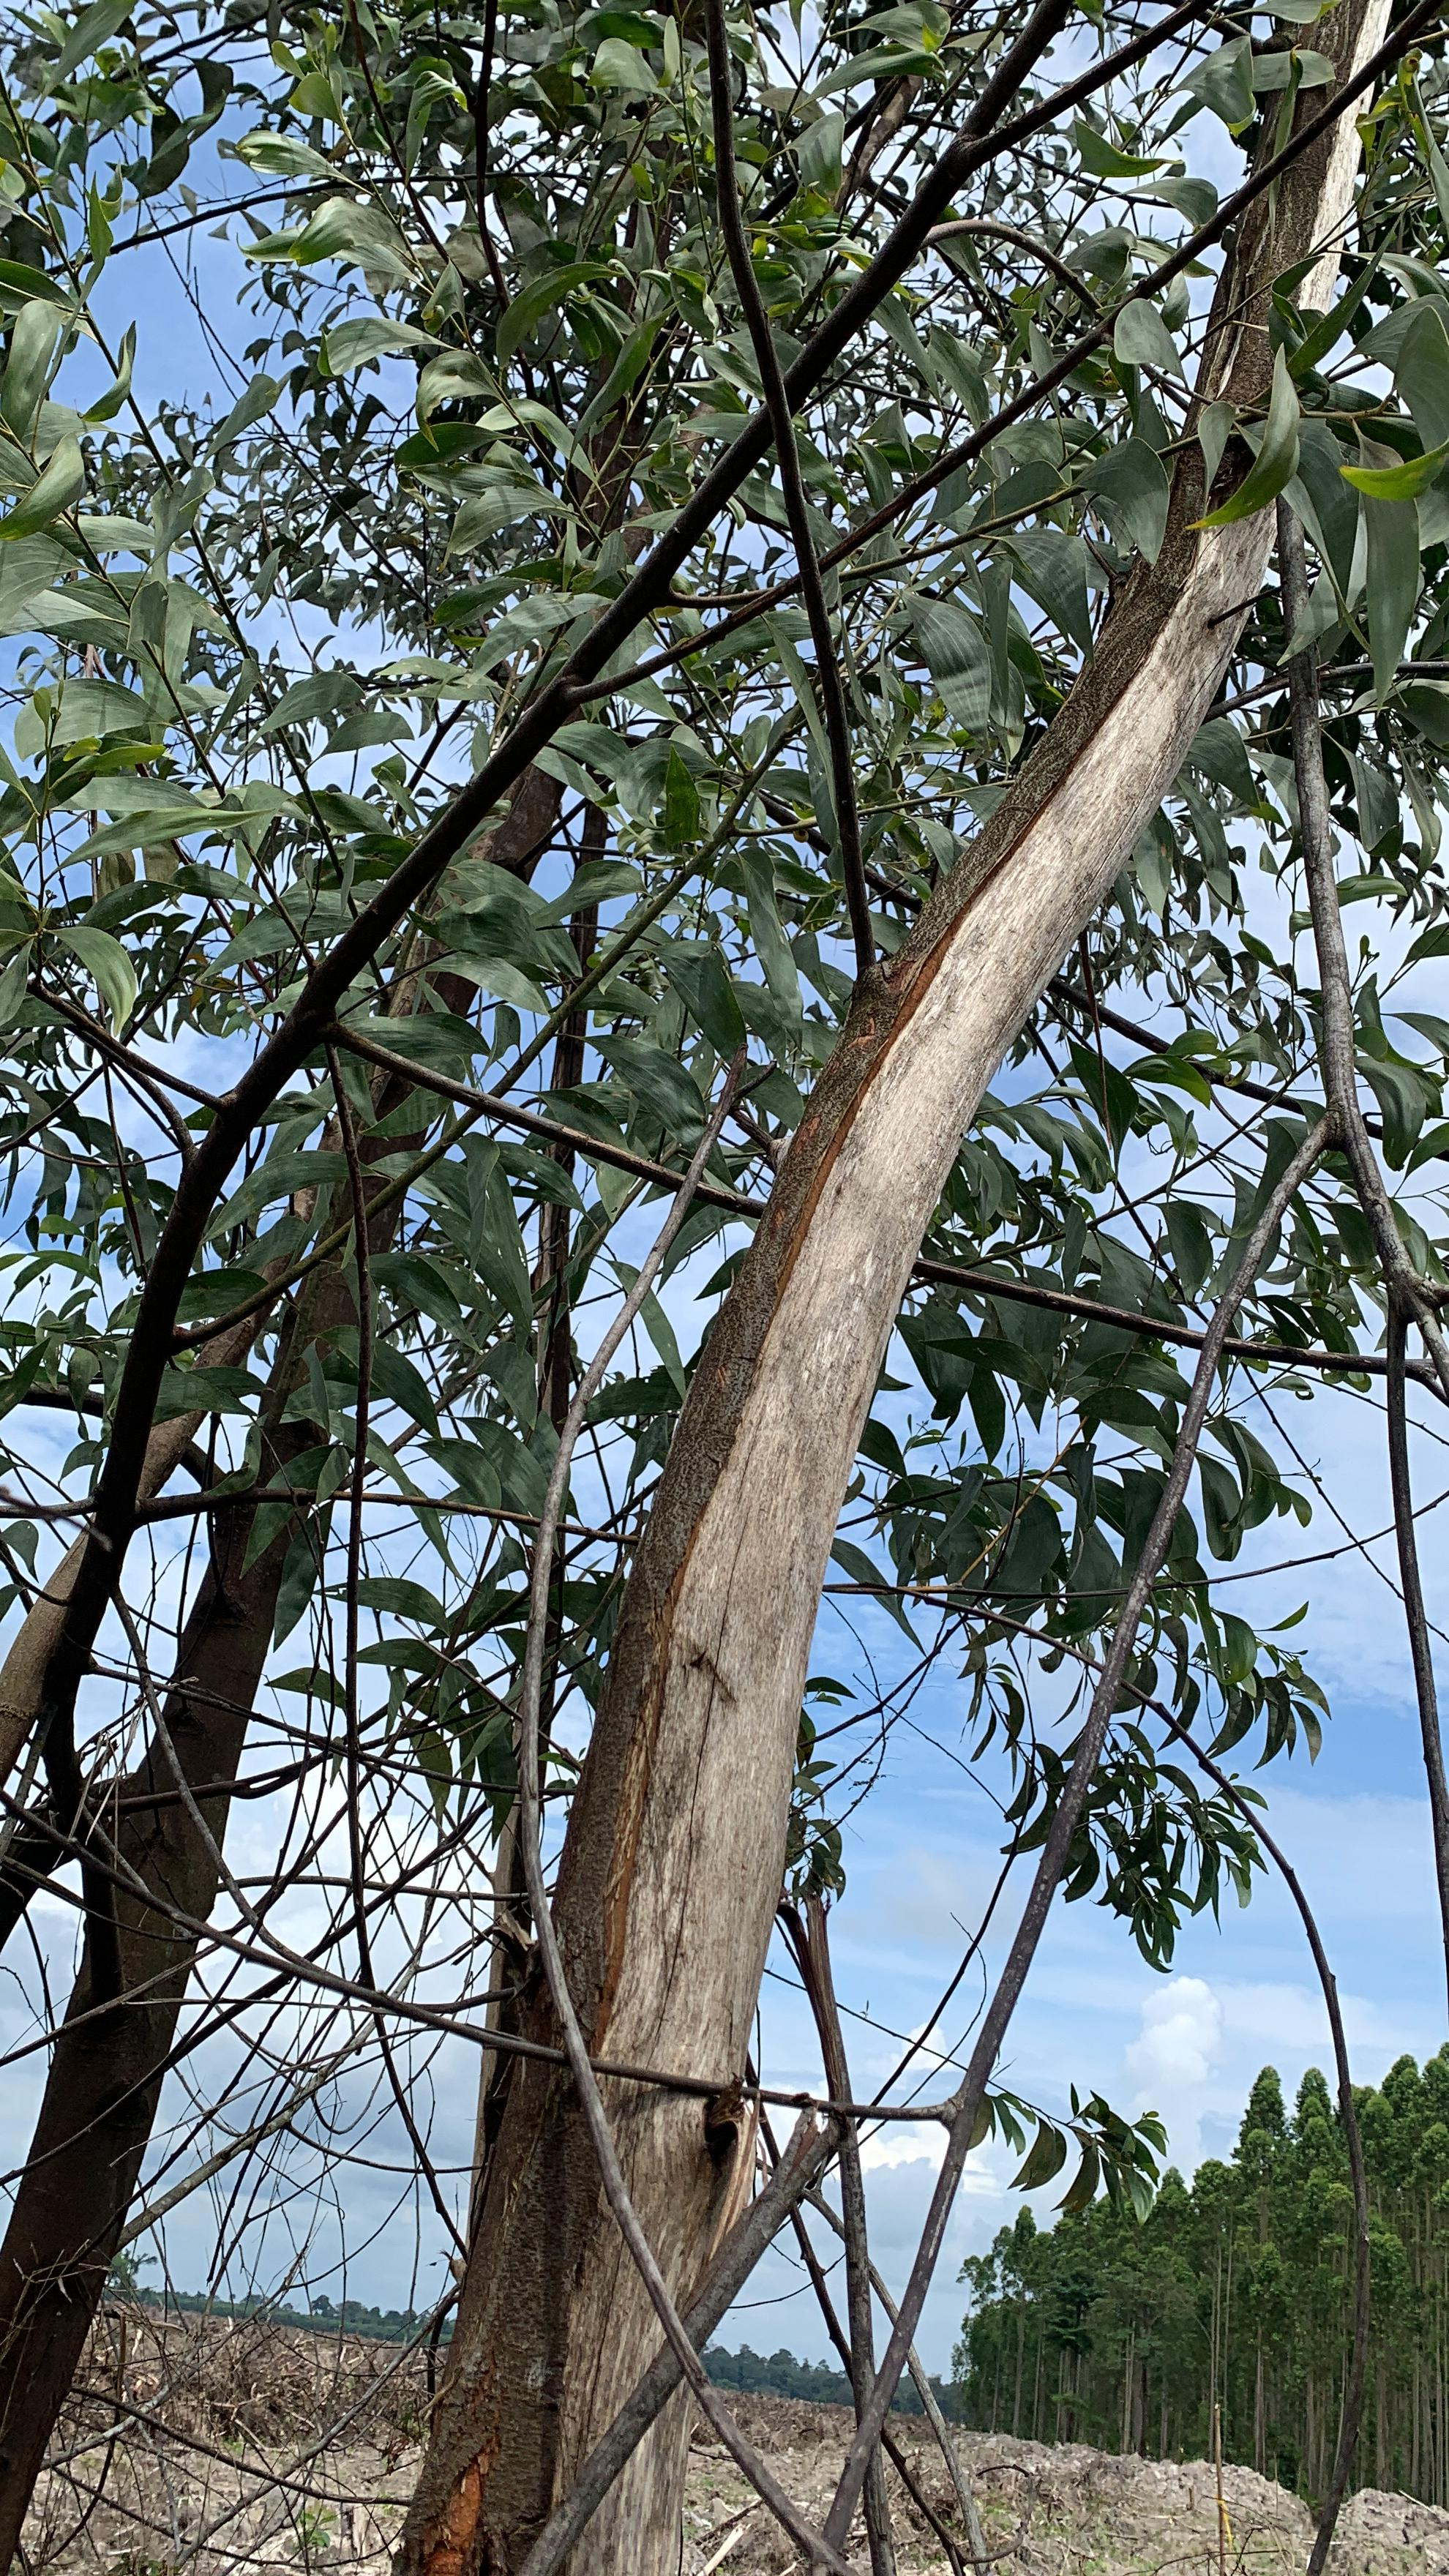Mammals Attack: (658, 0, 1398, 1490), (393, 1483, 846, 2576)
